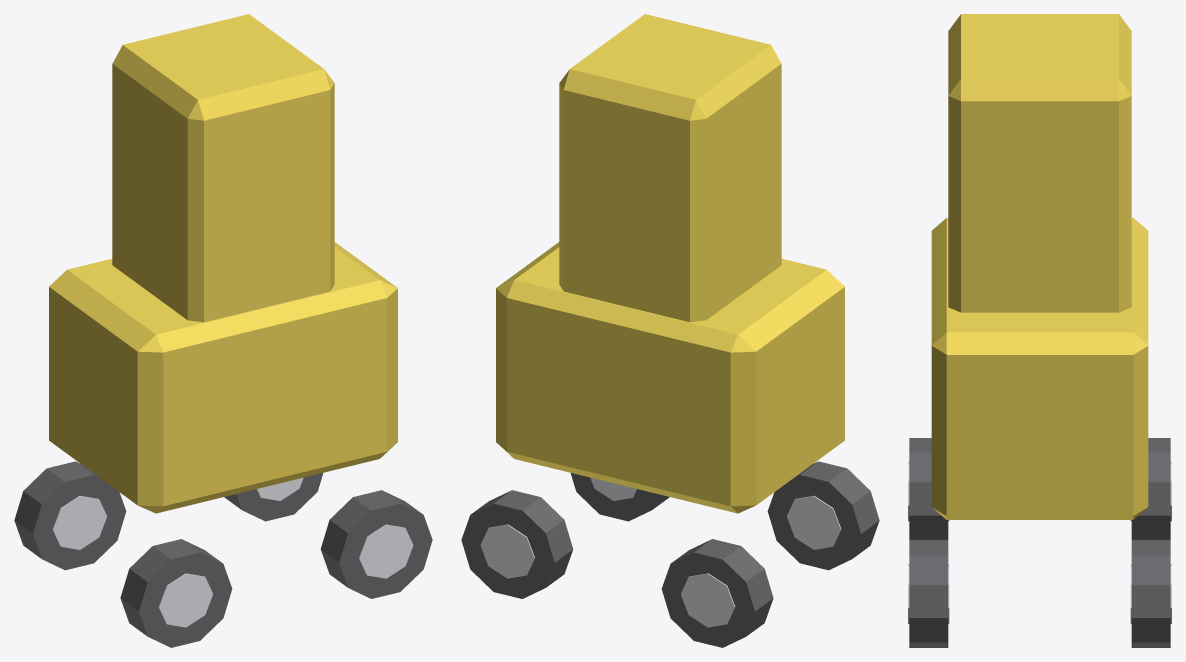
Rendered from b07_portable_light_tower_trailer.glb.
3 renders of one model, left to right at view 1: azimuth 30°, elevation 25°; view 2: azimuth 150°, elevation 25°; view 3: azimuth 270°, elevation 25°, orthographic. The views are drawn at different scales.
Visible parts, largest first — view 1: b07_portable_light_tower_trailer; view 2: b07_portable_light_tower_trailer; view 3: b07_portable_light_tower_trailer.
Boxes of the visible parts, x1,y1,x2,y2 form: b07_portable_light_tower_trailer: (14,14,432,647); b07_portable_light_tower_trailer: (461,14,879,647); b07_portable_light_tower_trailer: (908,14,1171,647).
Size of the model in its own units: 3.21 by 5.41 by 2.38.
